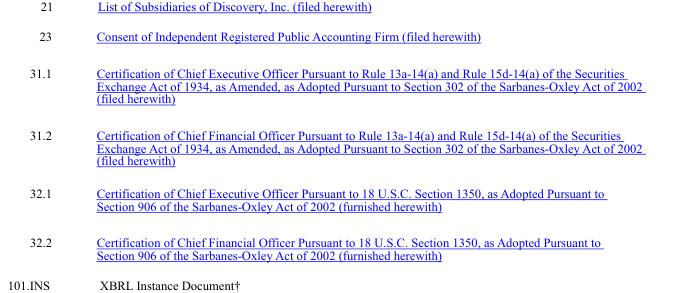table: (28, 29, 641, 261)
table column: (73, 29, 641, 261), (28, 29, 73, 261)
table row: (28, 54, 641, 116), (28, 116, 641, 176), (28, 176, 641, 223), (28, 223, 641, 261), (28, 29, 641, 54)
